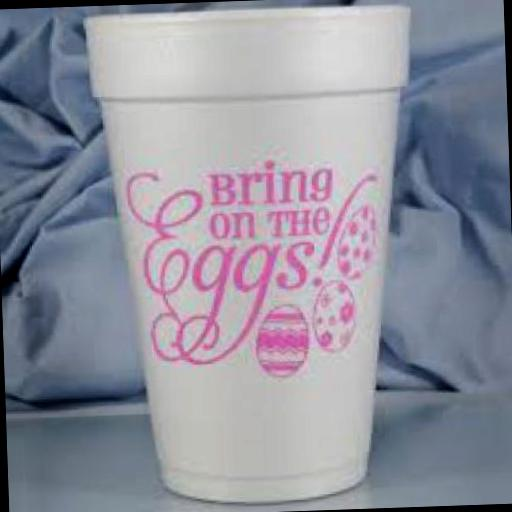paper: (80, 0, 425, 506)
